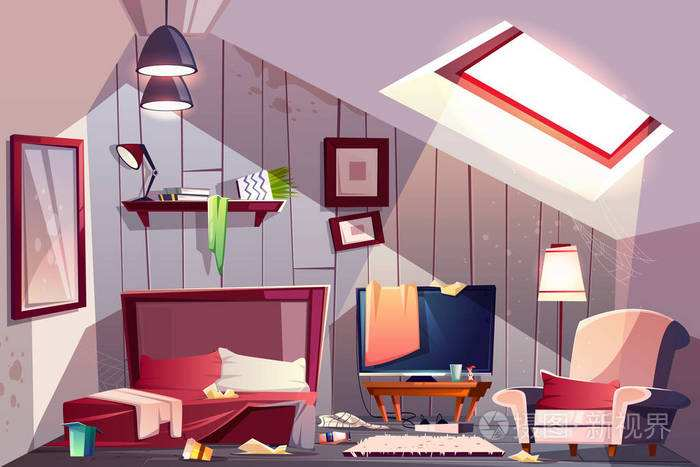枕头: (196, 352, 298, 402)
灯: (531, 242, 583, 392), (128, 20, 196, 120)
